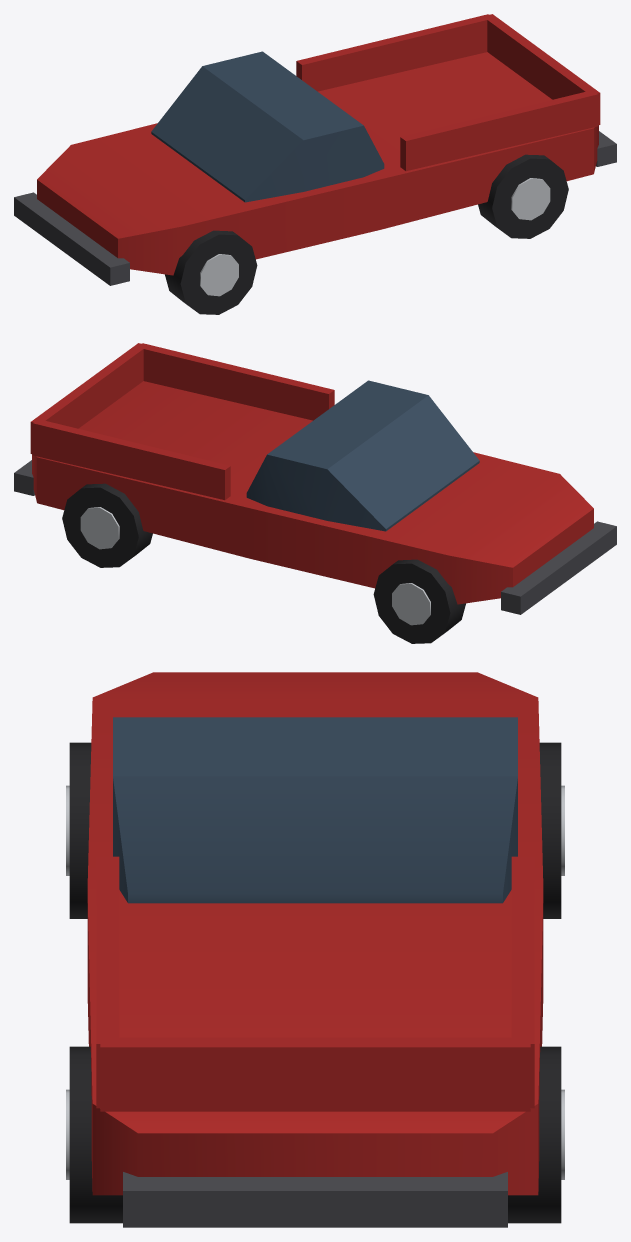
Rendered from car_pickup_red.fbx.
3 renders of one model, top to bottom at view 1: azimuth 30°, elevation 25°; view 2: azimuth 150°, elevation 25°; view 3: azimuth 270°, elevation 25°, orthographic. The views are drawn at different scales.
Visible parts, largest first — view 1: Body, Wheel_FR, Wheel_RR; view 2: Body, Wheel_FL, Wheel_RL; view 3: Body, Wheel_RL, Wheel_RR, Wheel_FL, Wheel_FR.
Part boxes in pixels (box(x1,y1,x2,y2)): Body: box(14, 14, 616, 285); Wheel_FR: box(165, 230, 257, 314); Wheel_RR: box(478, 154, 568, 238); Body: box(14, 343, 616, 614); Wheel_FL: box(373, 559, 465, 643); Wheel_RL: box(62, 483, 152, 567); Body: box(87, 672, 543, 1227); Wheel_RL: box(508, 1046, 564, 1223); Wheel_RR: box(66, 1046, 122, 1223); Wheel_FL: box(539, 742, 564, 918); Wheel_FR: box(66, 742, 91, 918).
Size of the model in its own units: 4.62 by 1.25 by 1.97.
